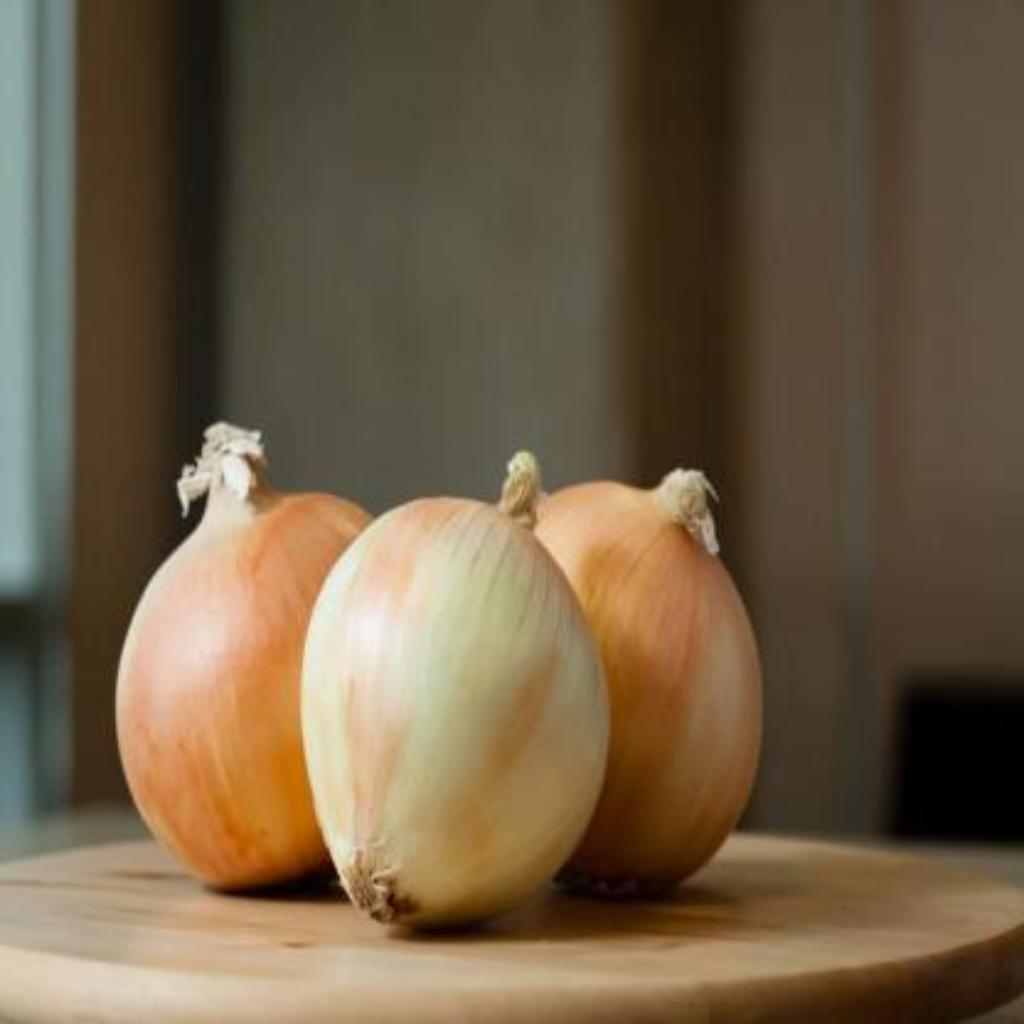Onion: (303, 453, 608, 929), (116, 423, 372, 892), (537, 470, 763, 891)
